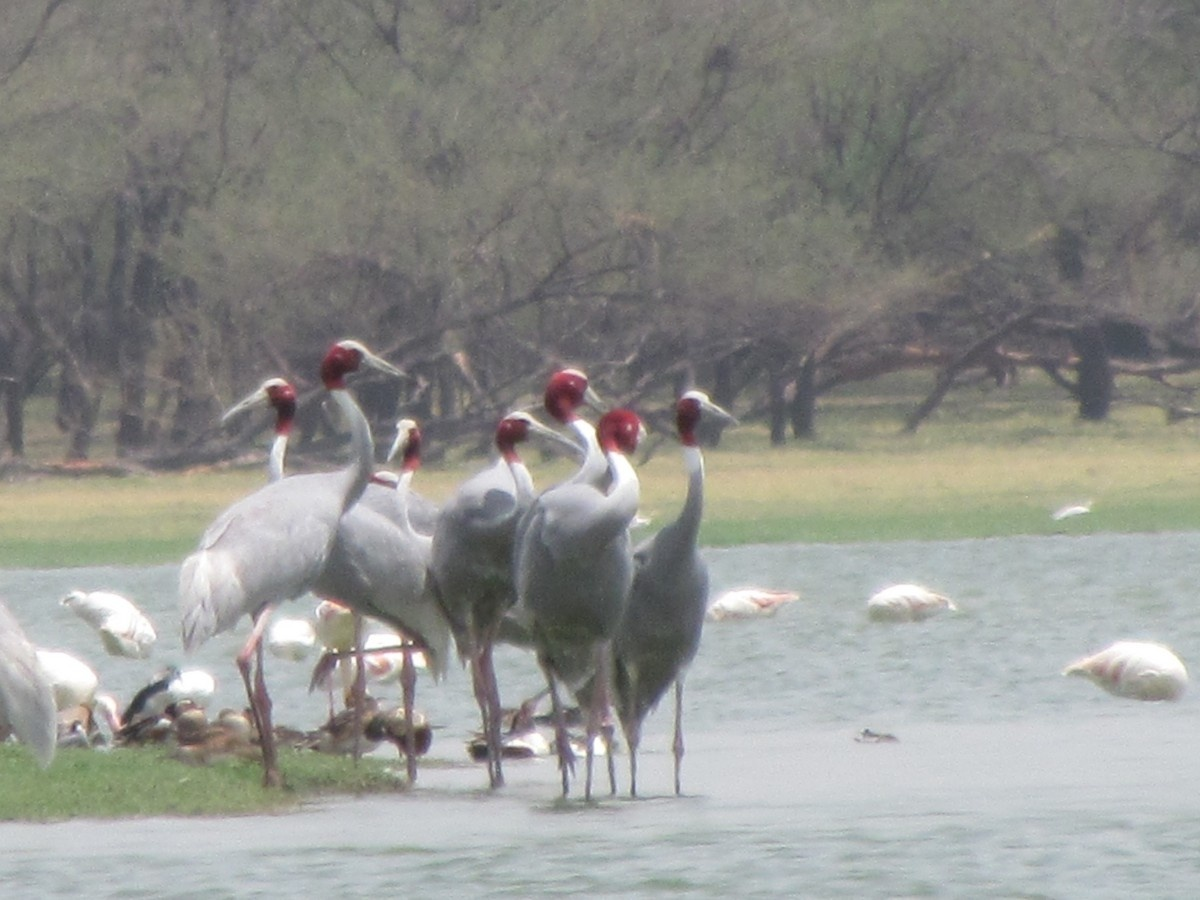crane: (181, 336, 408, 798), (432, 413, 581, 789), (626, 383, 745, 808), (547, 410, 653, 791), (221, 362, 306, 478), (387, 409, 430, 527)
